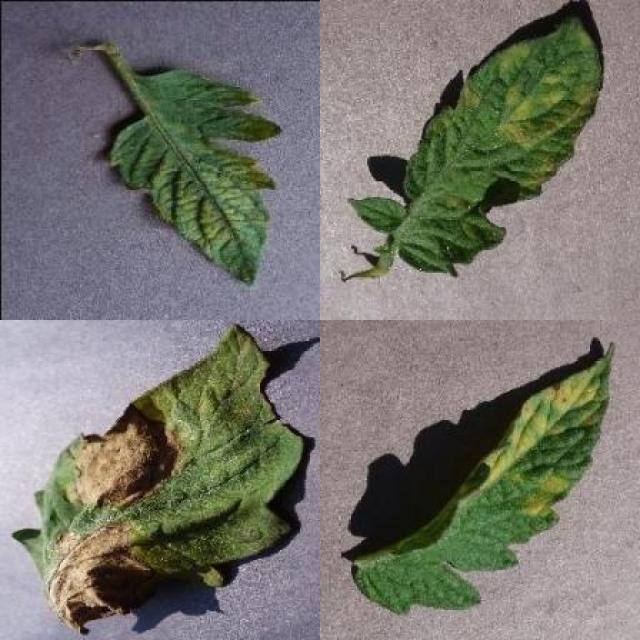Late Blight: (12, 321, 305, 636)
Leaf Mold: (350, 344, 617, 616), (347, 17, 603, 276)
Mosaic Virus: (109, 67, 284, 287)
